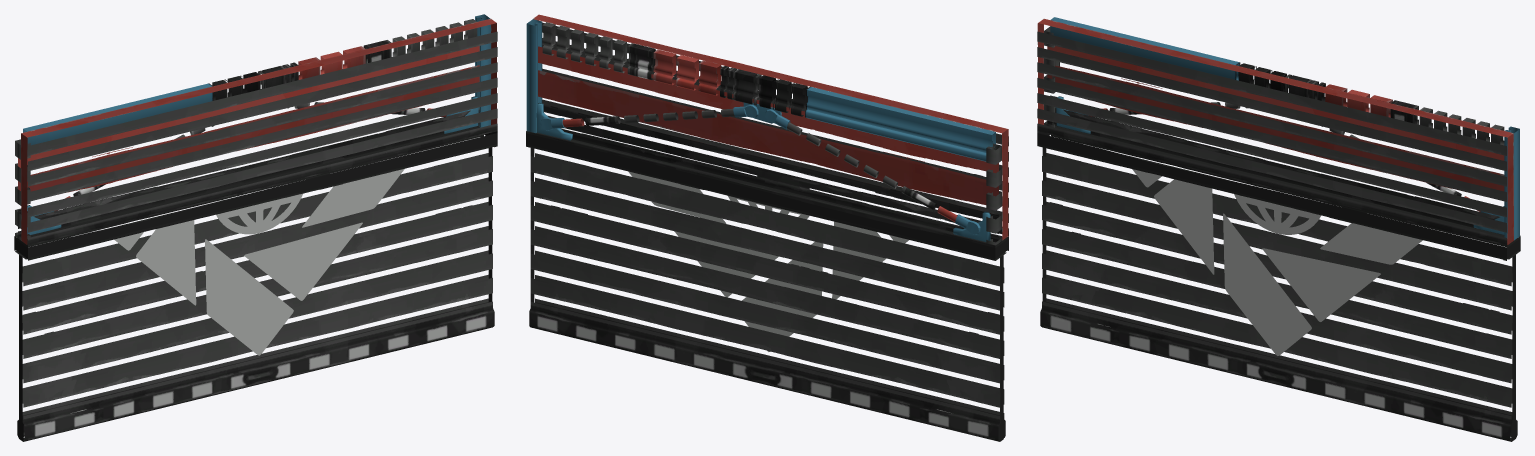
The model's file is hangardoor.glb.
3 views of the same model, side by side, from view 1: azimuth 30°, elevation 25°; view 2: azimuth 150°, elevation 25°; view 3: azimuth 330°, elevation 25° (orthographic).
Parts seen in each view (by area): view 1: AB_Hangar_Wall_Door_B; view 2: AB_Hangar_Wall_Door_B; view 3: AB_Hangar_Wall_Door_B.
Part boxes in pixels (x1,y1,x2,y2): AB_Hangar_Wall_Door_B: (14,14,497,441); AB_Hangar_Wall_Door_B: (526,14,1008,441); AB_Hangar_Wall_Door_B: (1037,17,1520,441).
Size of the model in its own units: 5.12 by 3.2 by 0.288.
1 material, 1 textured.
